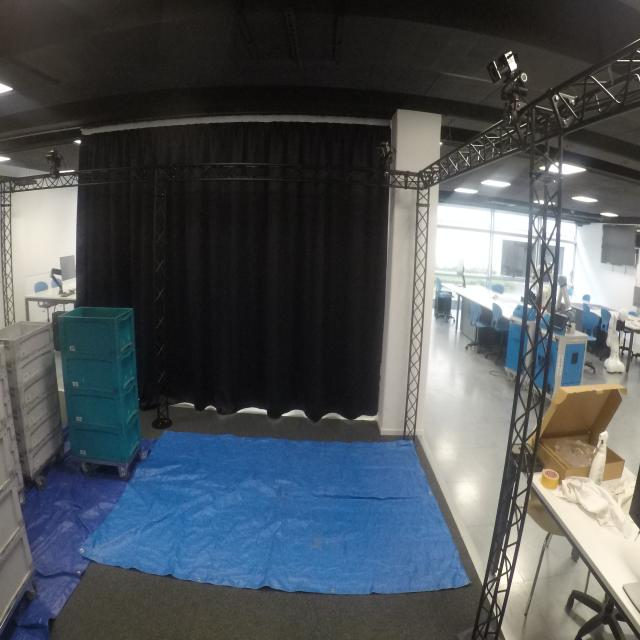BoxB4: (56, 301, 137, 356), (63, 352, 141, 394), (64, 423, 148, 462), (62, 390, 140, 424)
